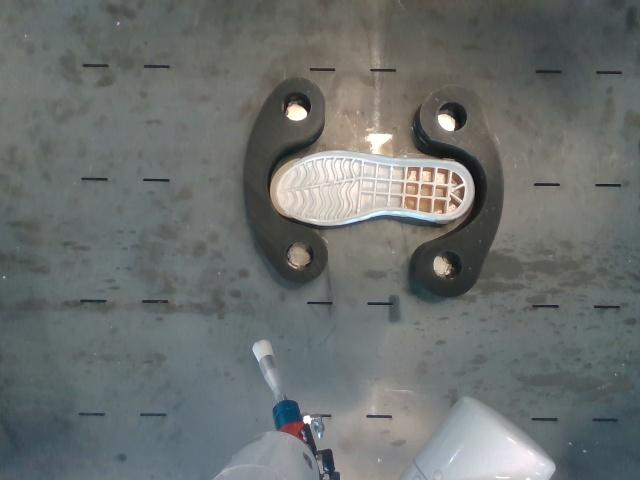shoes: (270, 151, 474, 225)
